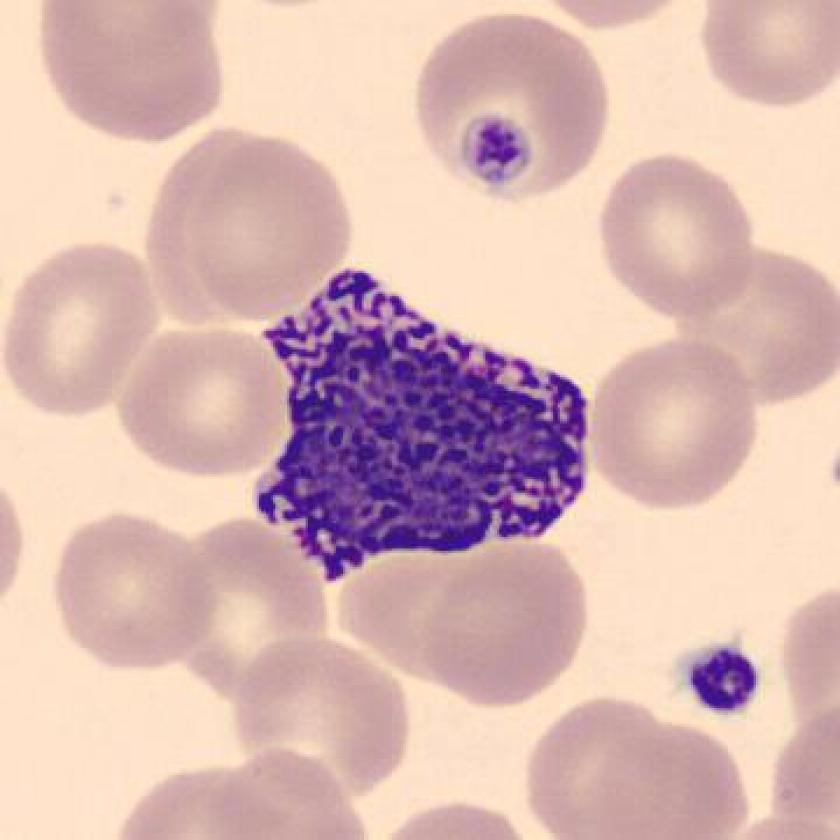basophil: (242, 258, 606, 582)
